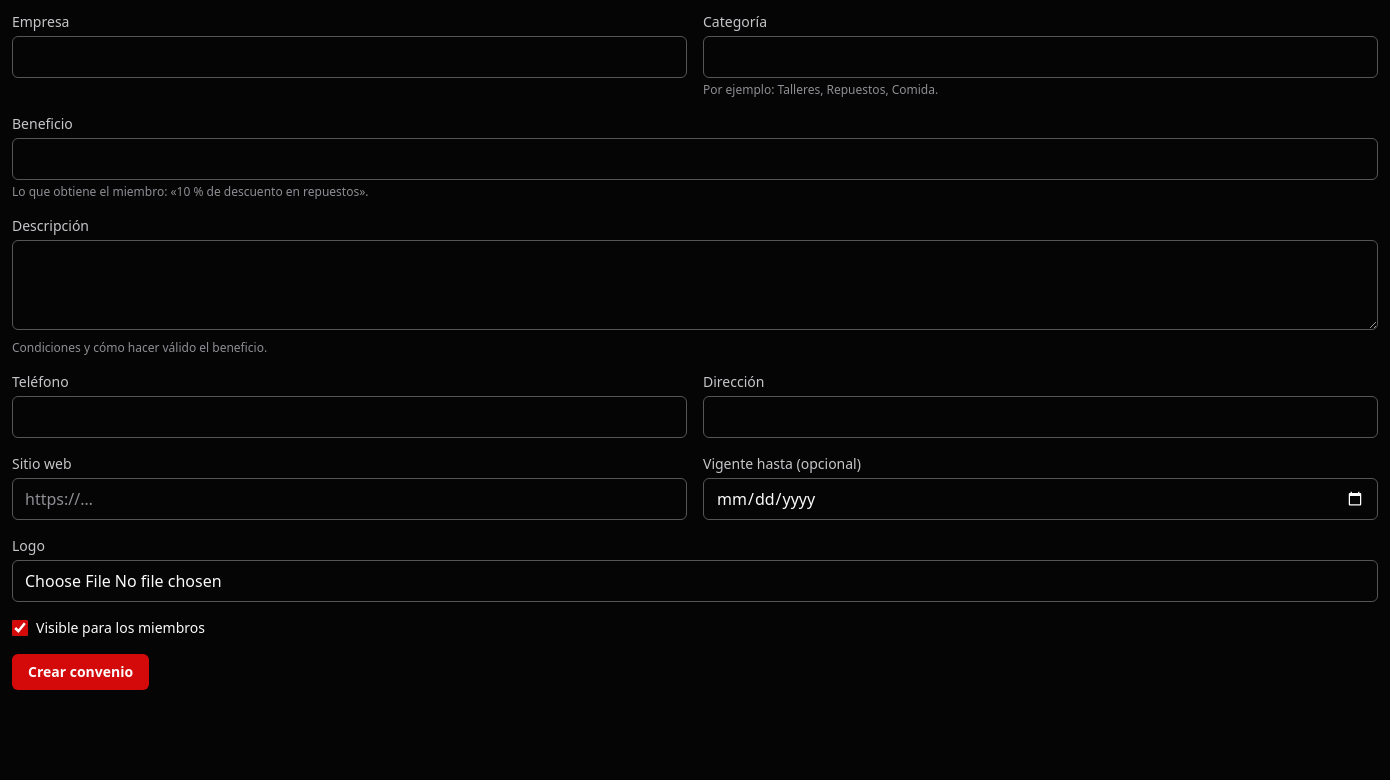
Test: PartnerForm › exige nombre y beneficio
Click the button "Crear convenio": (81, 672) [12, 654, 149, 690]
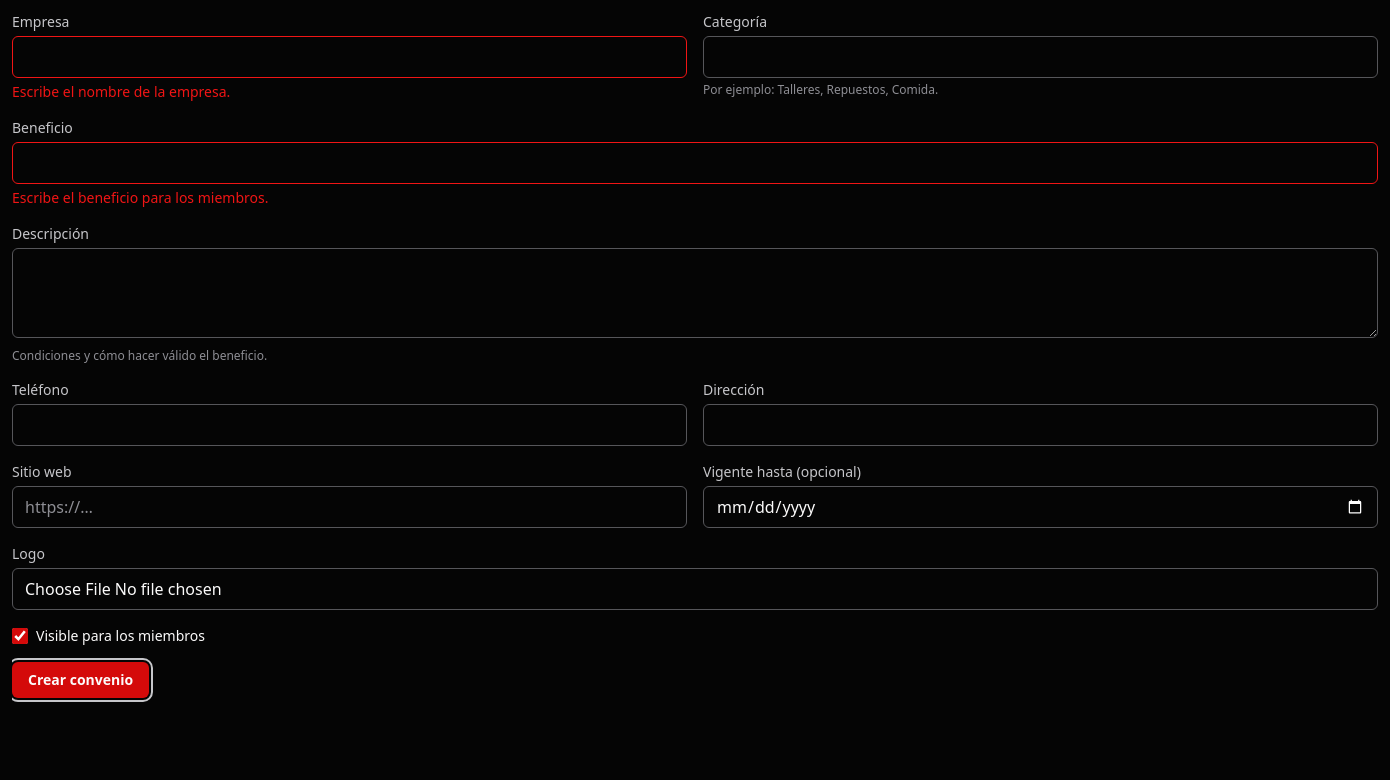
Now the text "Escribe el nombre de la empresa." is shown, box [12, 82, 230, 101]
Now the text "Escribe el beneficio para los miembros." is shown, box [12, 188, 268, 207]
